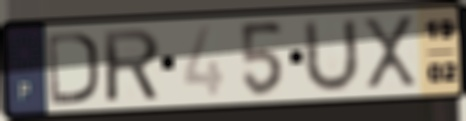4: (180, 23, 228, 100)
5: (239, 17, 287, 99)
D: (45, 29, 102, 107)
R: (100, 26, 163, 105)
U: (301, 15, 363, 96)
X: (359, 13, 421, 94)
